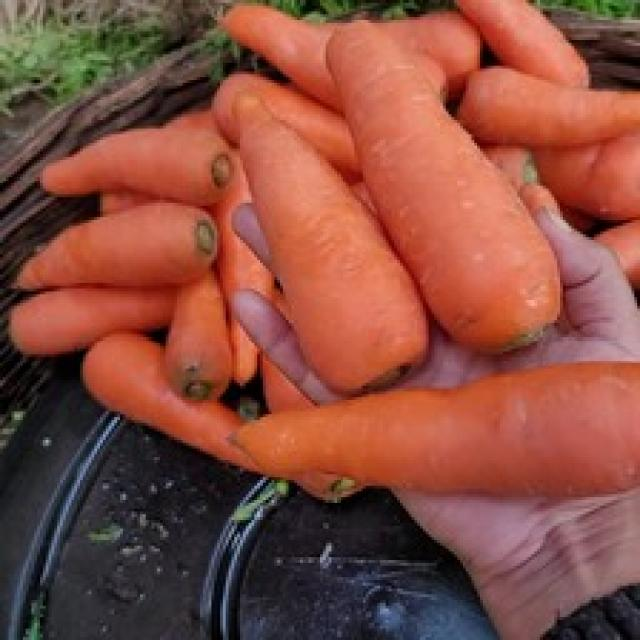Fresh_Carrot: (331, 10, 564, 343), (238, 90, 442, 388), (235, 363, 640, 500), (86, 337, 290, 480)
